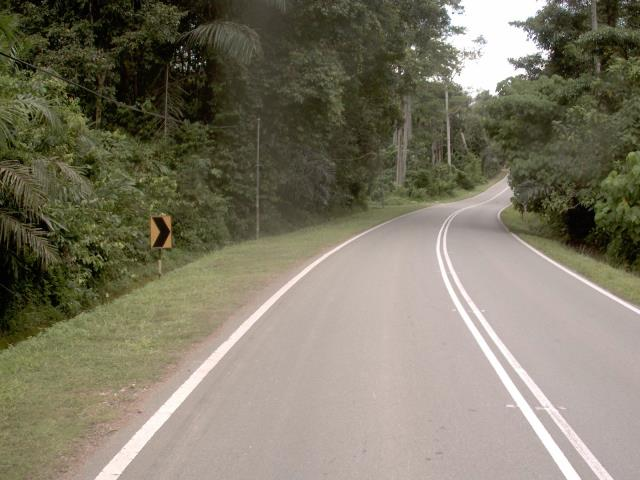traffic_sign: (143, 207, 181, 257)
